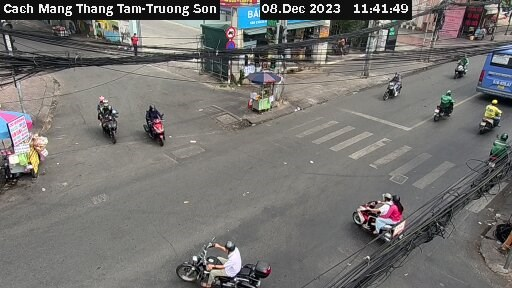bus: (477, 41, 512, 100)
motorbike: (171, 233, 273, 286), (347, 188, 408, 244), (81, 96, 133, 141), (137, 103, 177, 144), (473, 135, 512, 174), (470, 93, 504, 132), (427, 86, 462, 121), (373, 67, 405, 104), (449, 53, 474, 78)
